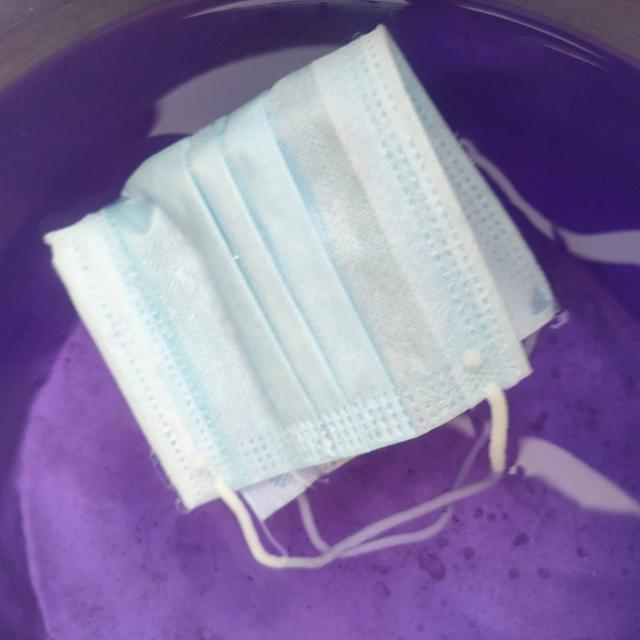litter: (30, 36, 575, 563)
